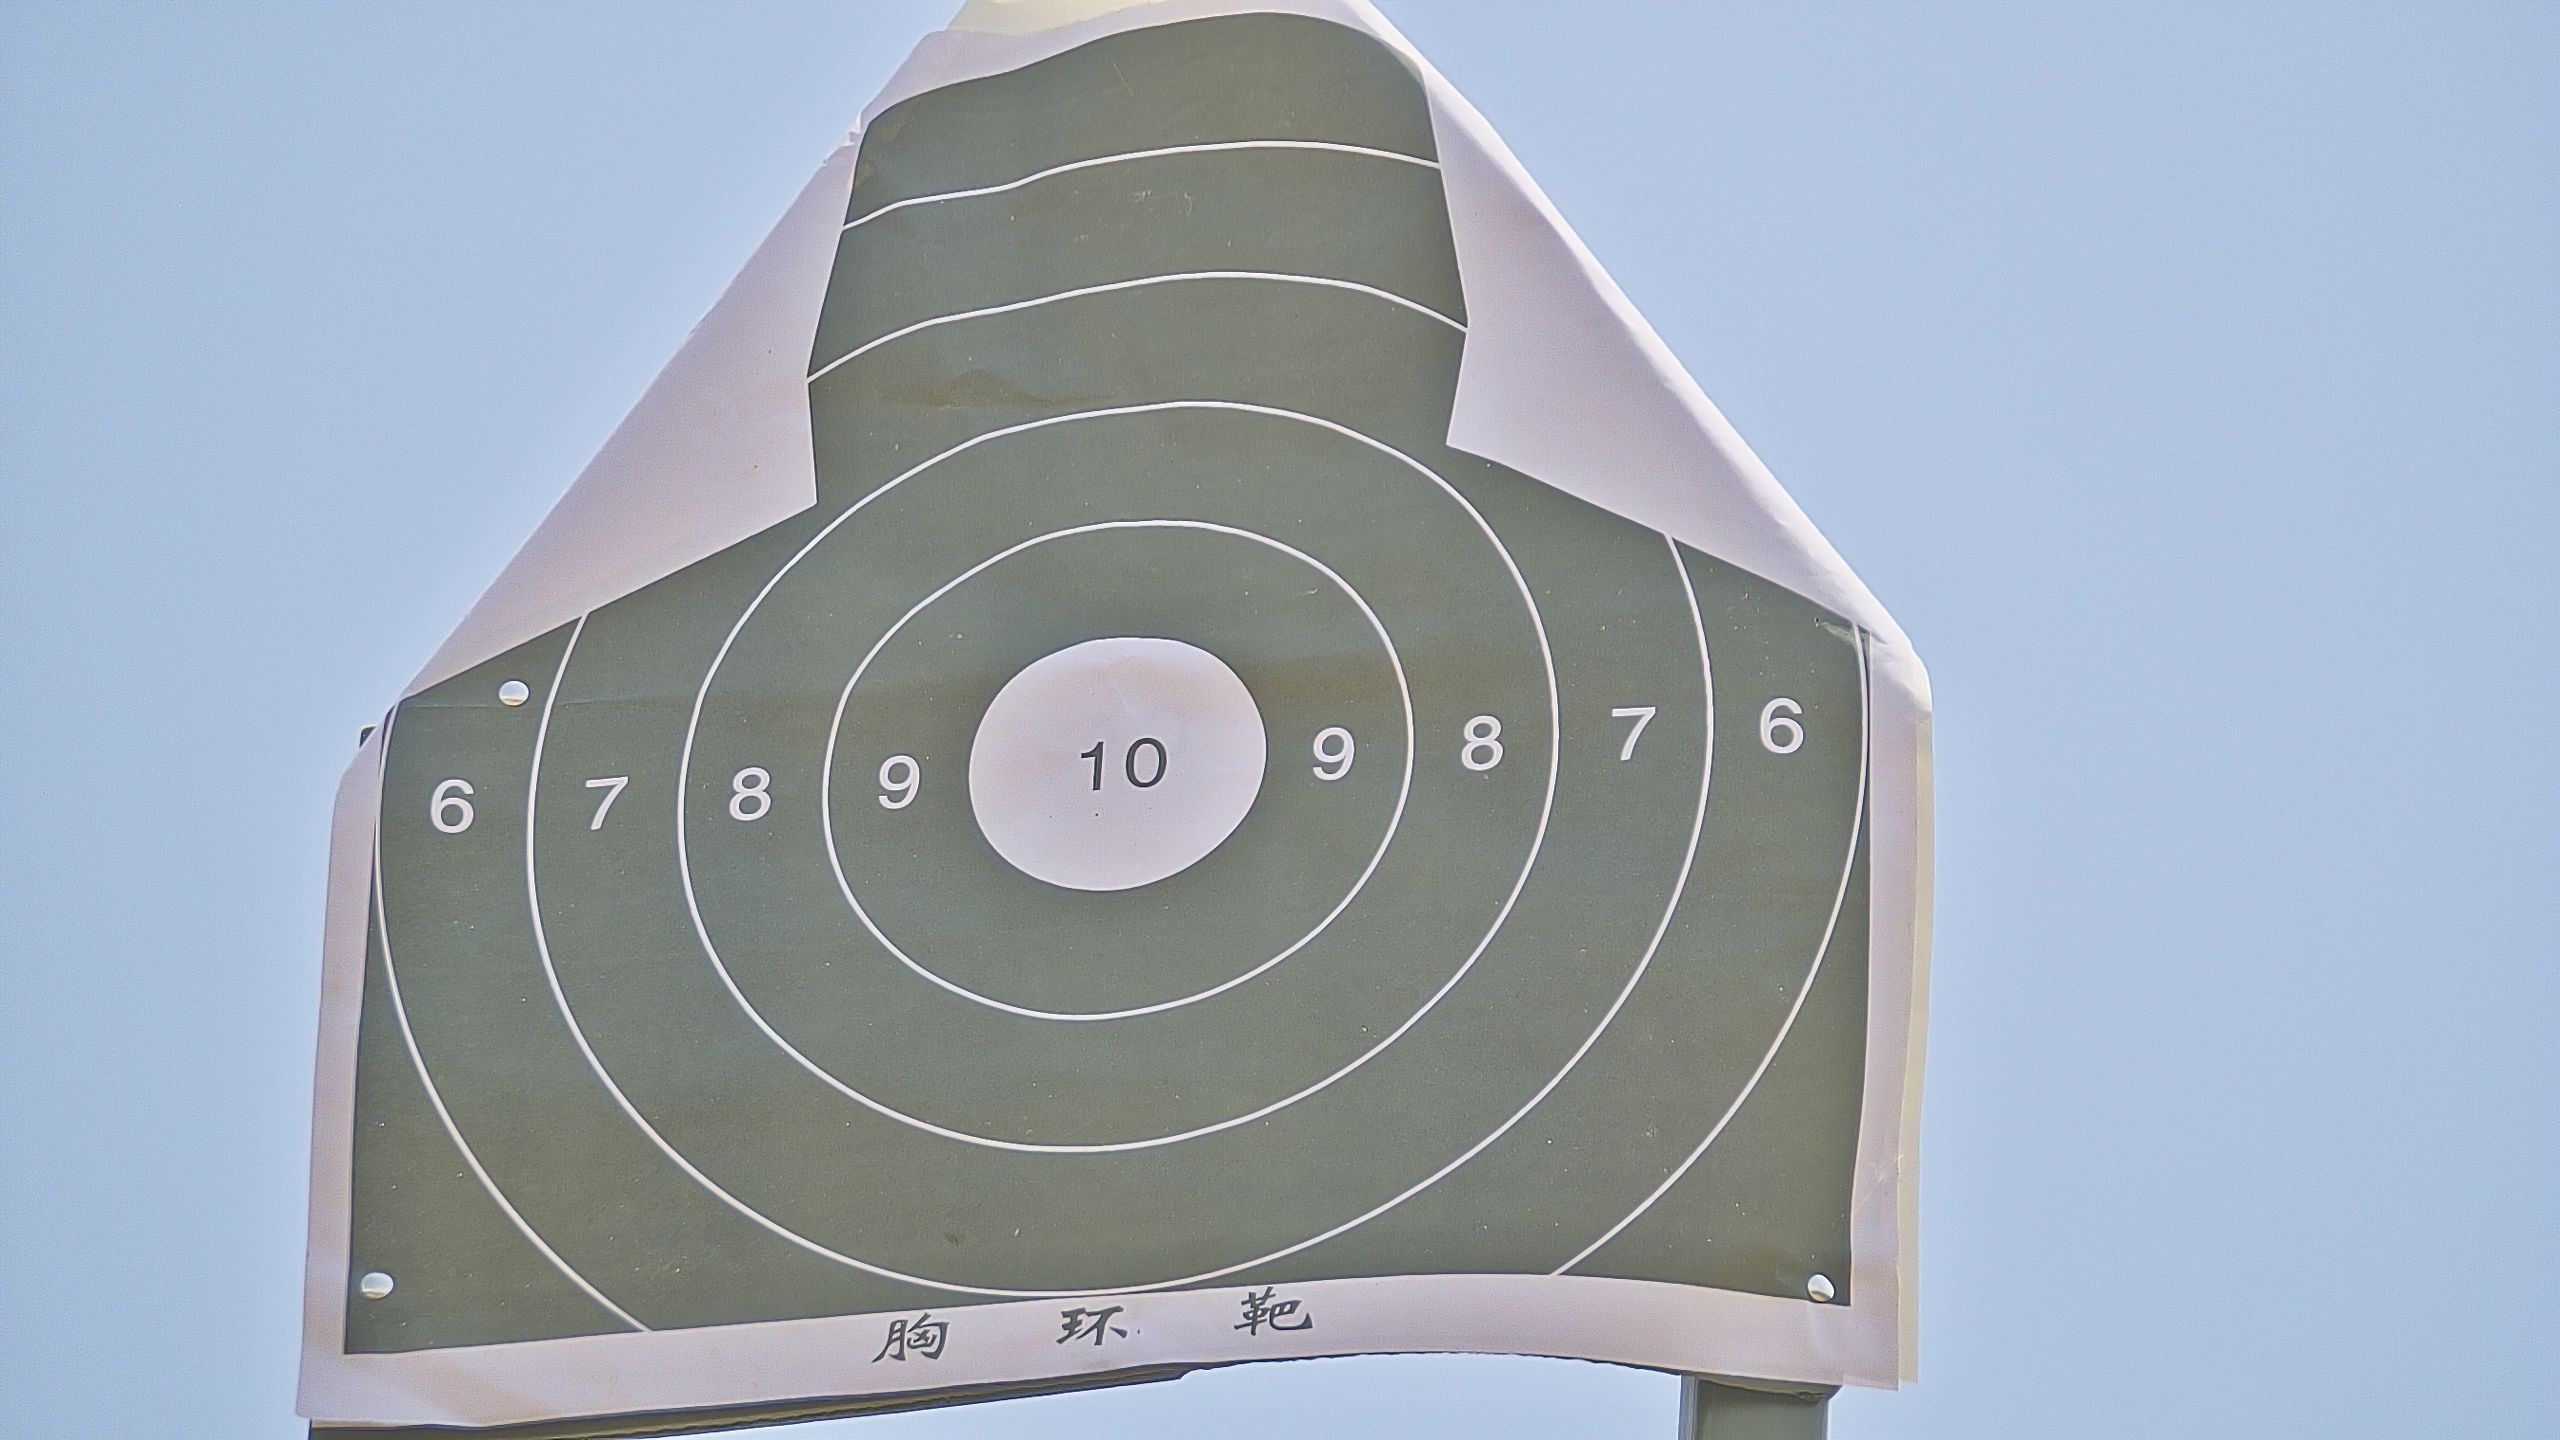kernel: (1111, 767, 1116, 775)
target: (345, 12, 1876, 1350)
ten: (962, 629, 1266, 897)
